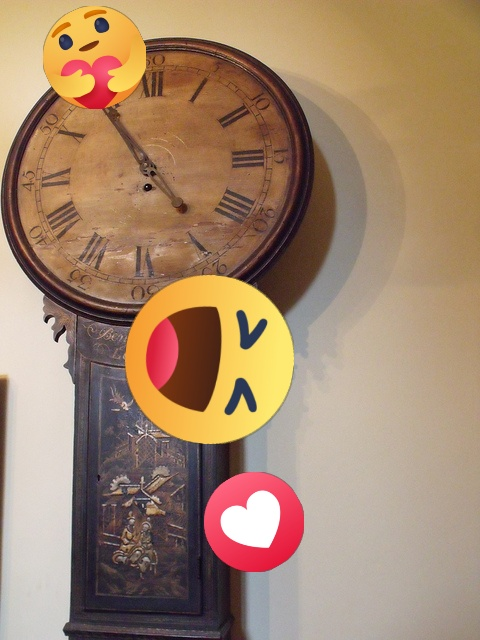care: (43, 6, 146, 109)
haha: (125, 275, 294, 444)
love: (204, 472, 304, 572)
